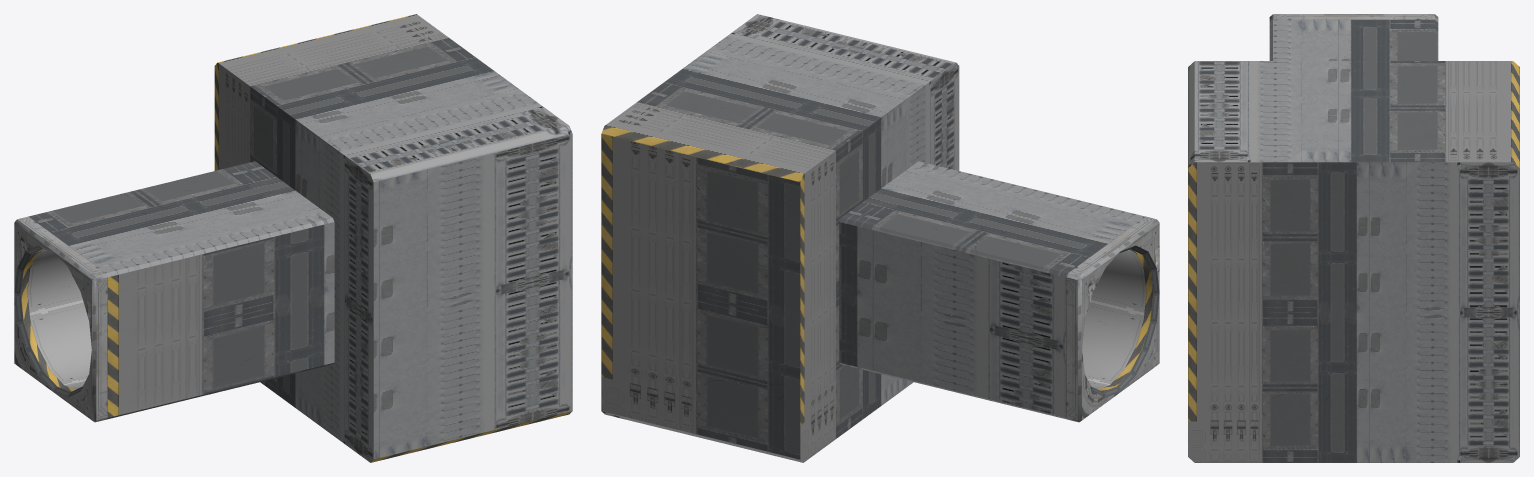
Rendered from SM_FanSupport.fbx.
3 views of the same model, side by side, from view 1: azimuth 30°, elevation 25°; view 2: azimuth 150°, elevation 25°; view 3: azimuth 270°, elevation 25° (orthographic). The views are drawn at different scales.
Parts seen in each view (by area): view 1: SM_FanSupport_LOD0; view 2: SM_FanSupport_LOD0; view 3: SM_FanSupport_LOD0.
Part boxes in pixels (bbox=[...]): SM_FanSupport_LOD0: bbox=[14, 14, 572, 462]; SM_FanSupport_LOD0: bbox=[601, 14, 1159, 462]; SM_FanSupport_LOD0: bbox=[1188, 14, 1519, 462].
Bounding box in the file's own units: 314 × 197 × 197.
Materials: 3 (3 with a texture image).
